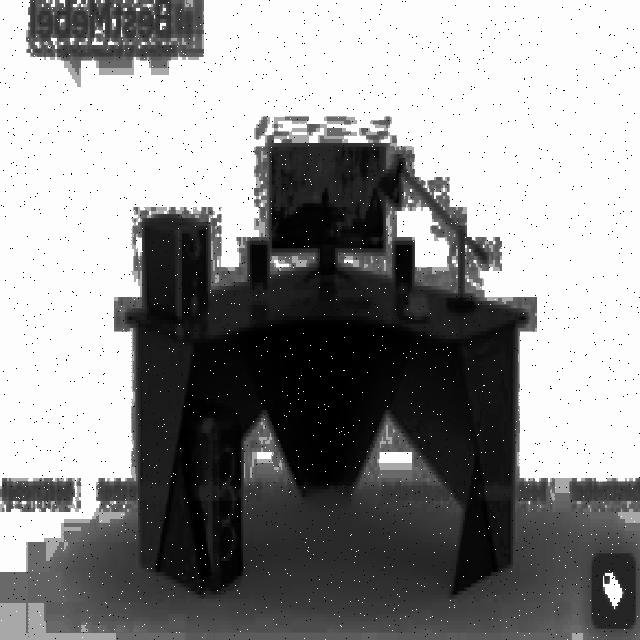table: (127, 260, 528, 595)
